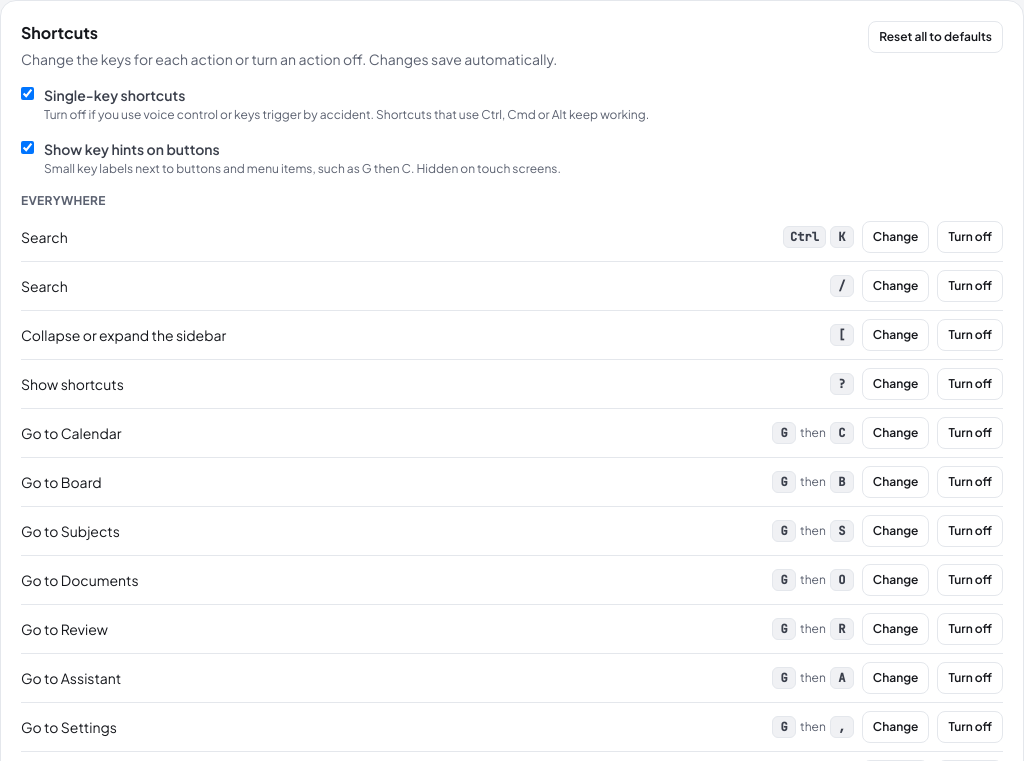
Shortcuts settings › resets everything after confirming
Step 1. Click the button "Reset all to defaults" → (936,37), box [868, 21, 1003, 53]
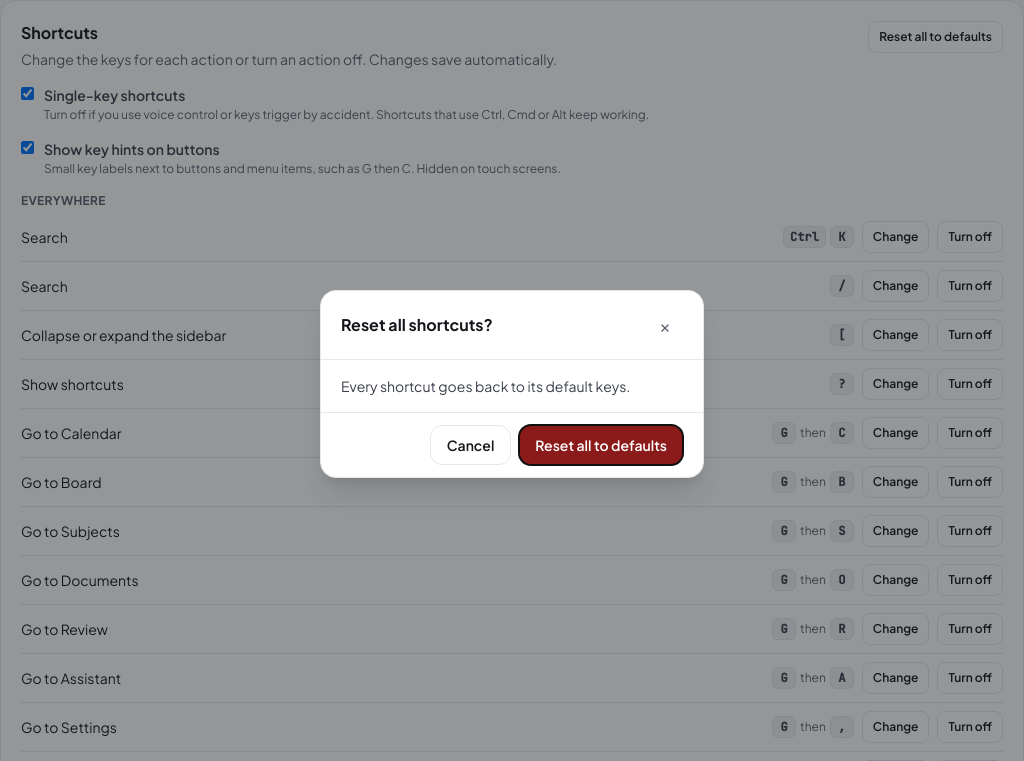
Step 2. Click the button "Cancel" → (471,445), box [430, 425, 511, 465]
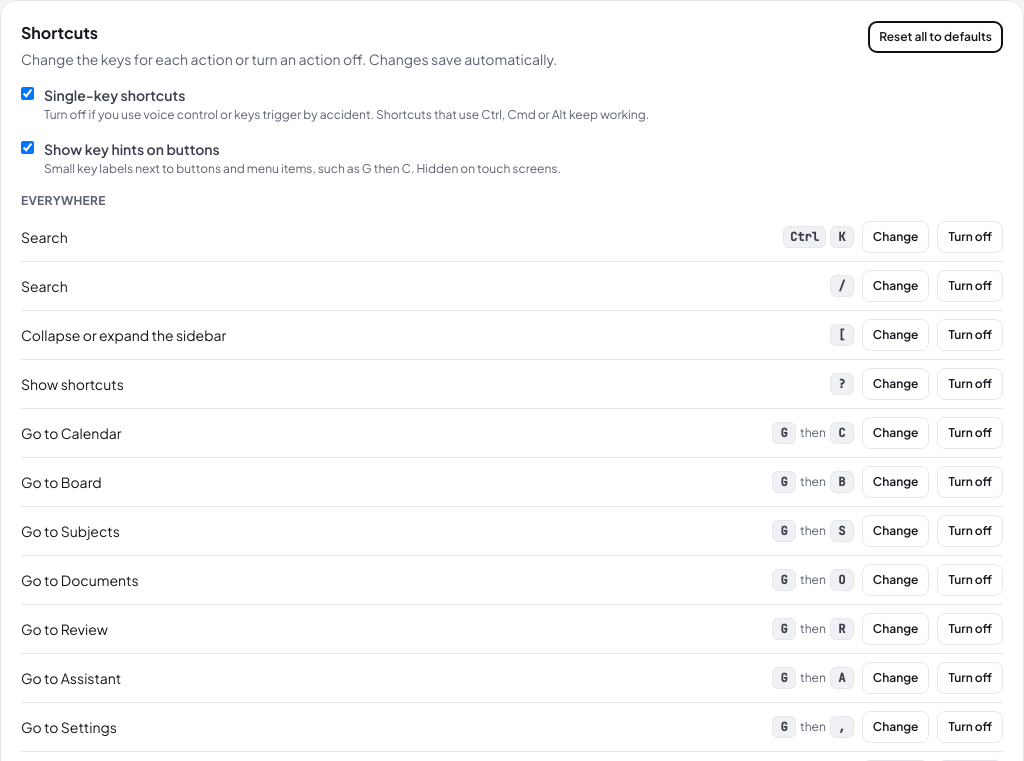
Step 3. Click the button "Reset all to defaults" → (936,37), box [868, 21, 1003, 53]
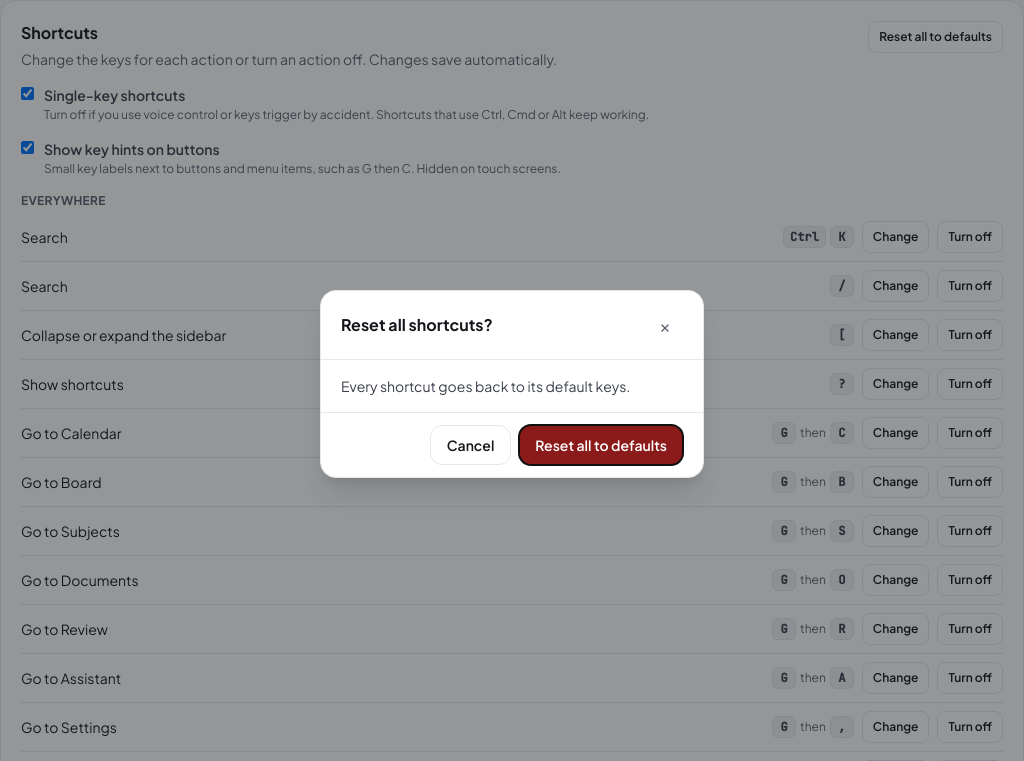
Step 4. Click the button "Reset all to defaults" → (601,445), box [519, 425, 683, 465]
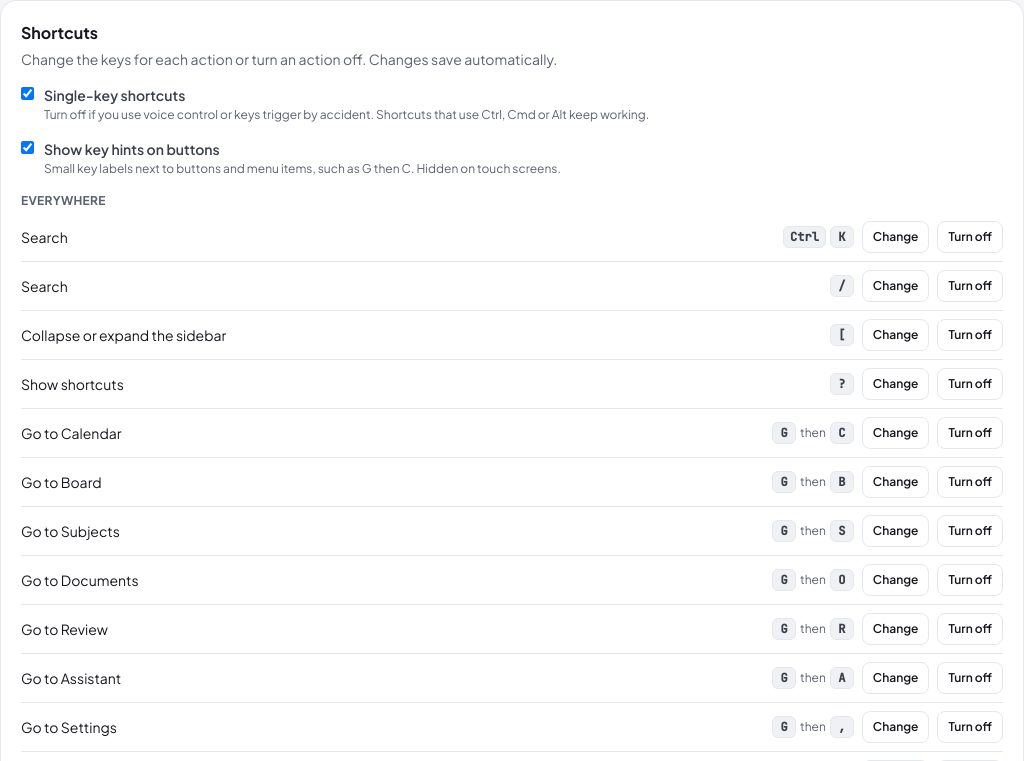
expect the button "Reset all to defaults" is gone: met
